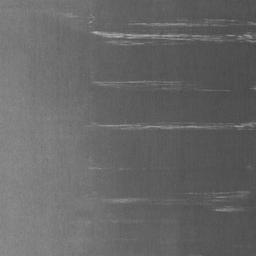Waist folding: (79, 17, 256, 47), (89, 189, 256, 214), (70, 79, 256, 93), (58, 120, 256, 132), (43, 11, 95, 24), (88, 165, 167, 172), (71, 218, 142, 225), (0, 5, 19, 10)
